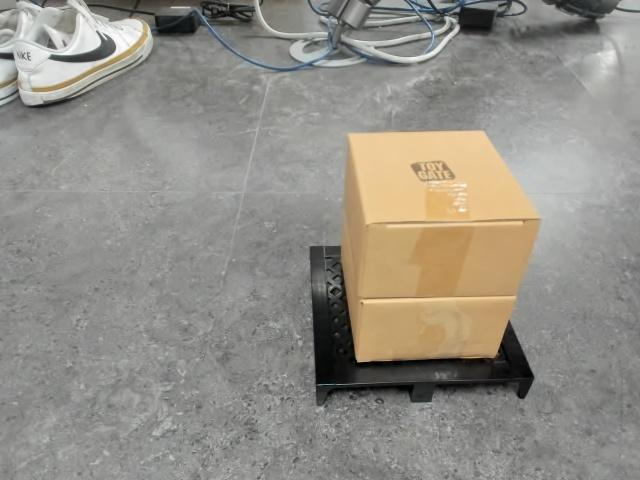box: (308, 127, 542, 407)
